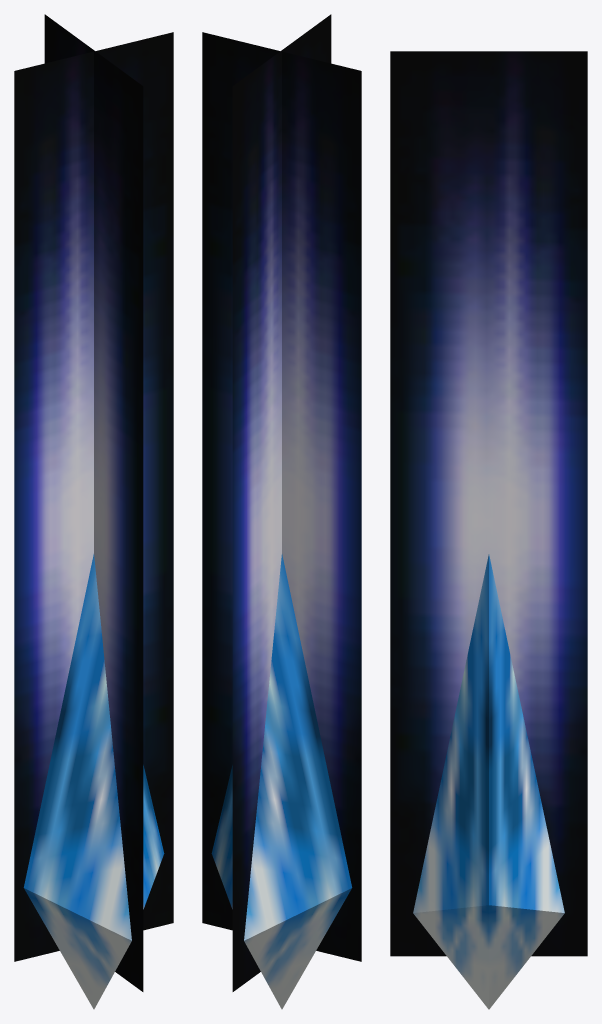
File: fbx_skill_x_102_staff_skill_9.FBX
3 renders of one model, left to right at view 1: azimuth 30°, elevation 25°; view 2: azimuth 150°, elevation 25°; view 3: azimuth 270°, elevation 25°, orthographic.
Visible parts, largest first — view 1: Sphere001; view 2: Sphere001; view 3: Sphere001.
Boxes of the visible parts, x1,y1,x2,y2 form: Sphere001: [14, 14, 173, 1009]; Sphere001: [202, 14, 361, 1009]; Sphere001: [390, 51, 587, 1009].
Size of the model in its own units: 42.66 by 45.94 by 246.
Materials: 1 (1 with a texture image).
